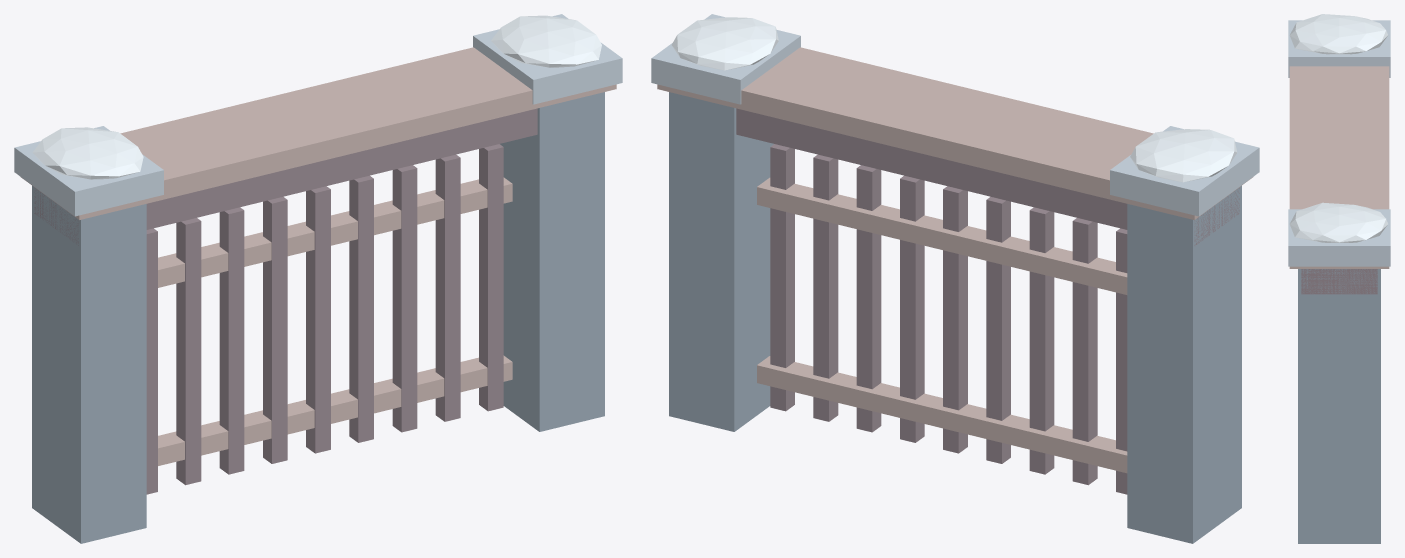
The model's file is wall-gate-snowy.glb.
The picture shows the model from 3 angles, left to right: view 1: azimuth 30°, elevation 25°; view 2: azimuth 150°, elevation 25°; view 3: azimuth 270°, elevation 25°; orthographic projection. The views are drawn at different scales.
Visible parts, largest first — view 1: wall-gate-kit-snowy-stone, wall-gate-kit-snowy-wood, wall-gate-kit-snowy-end, wall-gate-kit-snowy-light, wall-gate-kit-snowy-top; view 2: wall-gate-kit-snowy-stone, wall-gate-kit-snowy-wood, wall-gate-kit-snowy-end, wall-gate-kit-snowy-light, wall-gate-kit-snowy-top; view 3: wall-gate-kit-snowy-stone, wall-gate-kit-snowy-end, wall-gate-kit-snowy-top, wall-gate-kit-snowy-light, wall-gate-kit-snowy-wood.
Boxes of the visible parts, <box> form: wall-gate-kit-snowy-stone: <box>32,92,604,543</box>; wall-gate-kit-snowy-wood: <box>34,108,537,494</box>; wall-gate-kit-snowy-end: <box>21,47,616,465</box>; wall-gate-kit-snowy-light: <box>14,14,622,216</box>; wall-gate-kit-snowy-top: <box>32,15,601,179</box>; wall-gate-kit-snowy-stone: <box>669,92,1241,543</box>; wall-gate-kit-snowy-wood: <box>736,108,1239,494</box>; wall-gate-kit-snowy-end: <box>657,47,1252,473</box>; wall-gate-kit-snowy-light: <box>651,14,1259,216</box>; wall-gate-kit-snowy-top: <box>672,17,1237,182</box>; wall-gate-kit-snowy-stone: <box>1298,269,1380,543</box>; wall-gate-kit-snowy-end: <box>1289,66,1389,268</box>; wall-gate-kit-snowy-top: <box>1289,14,1388,242</box>; wall-gate-kit-snowy-light: <box>1288,20,1390,266</box>; wall-gate-kit-snowy-wood: <box>1301,269,1377,294</box>.
Bounding box in the file's own units: 4.18 × 2.73 × 0.8.
